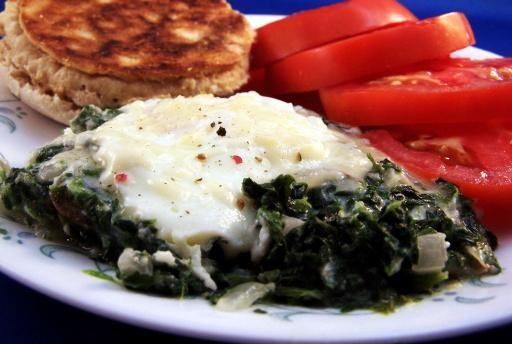background: (0, 0, 410, 168)
